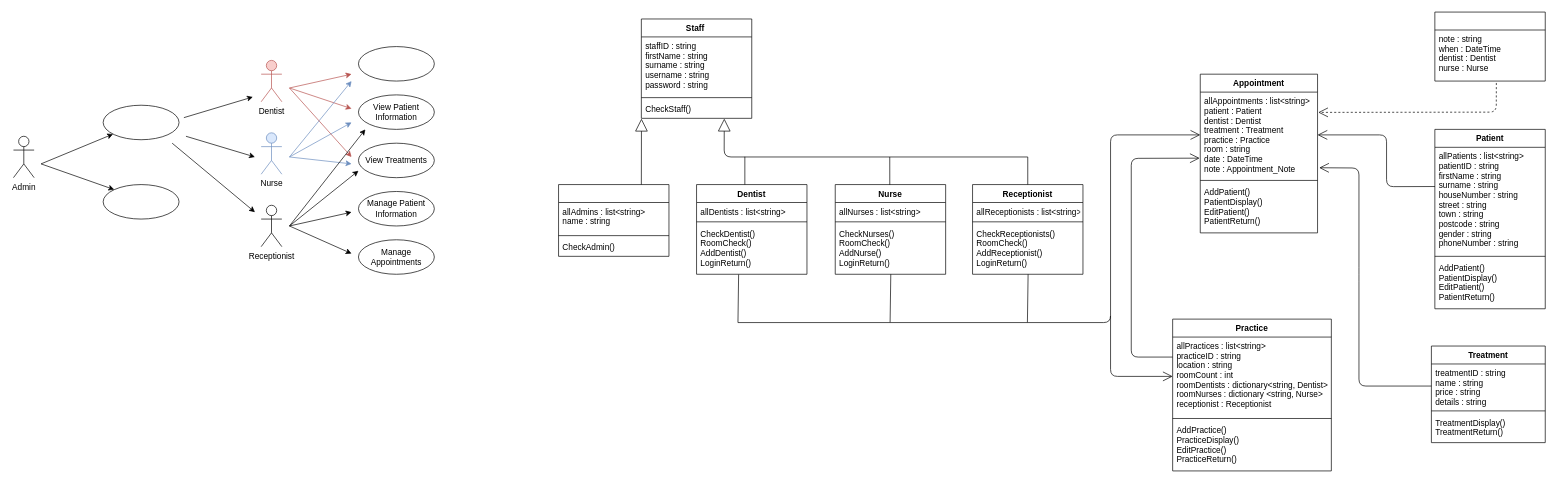
This 1557x485 diagram has some shape labels left out. The box of each missing label's shape, as (x1, y1, x2, y2) in pixels:
Administrator: (558, 184, 669, 256)
Appointment_Note: (1434, 11, 1545, 81)
Leave Notes on Appointments: (358, 46, 434, 81)
Manage Practices: (102, 184, 179, 219)
Manage Staff Credentials: (102, 105, 179, 140)
